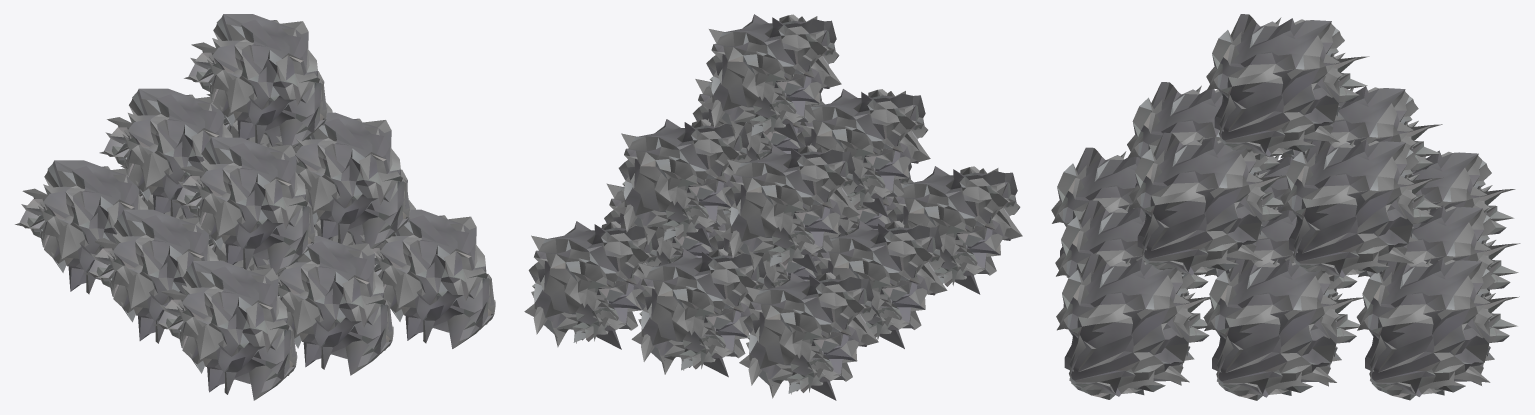
File: OrePile_Iron.glb
The picture shows the model from 3 angles, left to right: view 1: azimuth 30°, elevation 25°; view 2: azimuth 150°, elevation 25°; view 3: azimuth 270°, elevation 25°; orthographic projection. The views are drawn at different scales.
Visible parts, largest first — view 1: OrePile_Iron; view 2: OrePile_Iron; view 3: OrePile_Iron.
Boxes of the visible parts, left/top/right/bottom form: OrePile_Iron: left=15, top=14, right=495, bottom=400; OrePile_Iron: left=524, top=14, right=1022, bottom=400; OrePile_Iron: left=1051, top=14, right=1520, bottom=400.
Size of the model in its own units: 2.8 by 2.49 by 3.34.
Materials: 1 (1 with a texture image).
